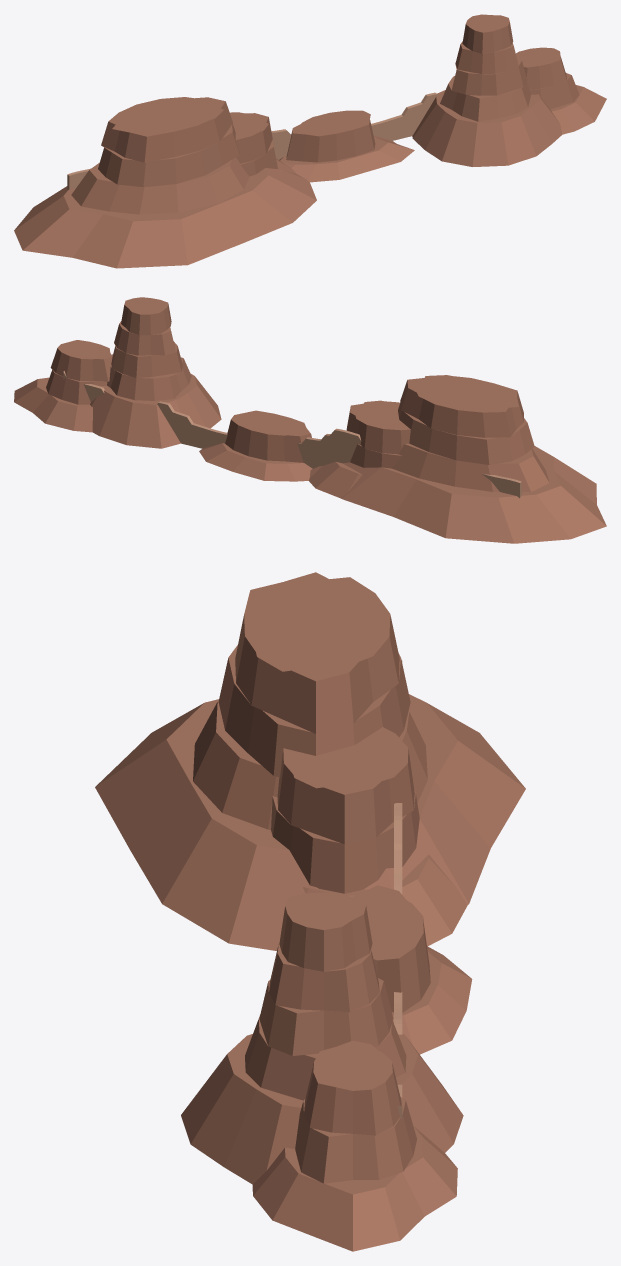
Rendered from surface_backdrop.fbx.
3 views of the same model, one above another, from view 1: azimuth 30°, elevation 25°; view 2: azimuth 150°, elevation 25°; view 3: azimuth 270°, elevation 25° (orthographic). The views are drawn at different scales.
Visible parts, largest first — view 1: BD_Mid__MidRock, BD_Far__FarRock; view 2: BD_Mid__MidRock, BD_Far__FarRock; view 3: BD_Mid__MidRock, BD_Far__FarRock.
Part boxes in pixels (x1,y1,x2,y2): BD_Mid__MidRock: (14,14,606,268); BD_Far__FarRock: (67,92,438,189); BD_Mid__MidRock: (14,297,606,543); BD_Far__FarRock: (63,371,521,498); BD_Mid__MidRock: (95,572,525,1251); BD_Far__FarRock: (394,660,402,1120).
Size of the model in its own units: 654 by 118 by 209.
